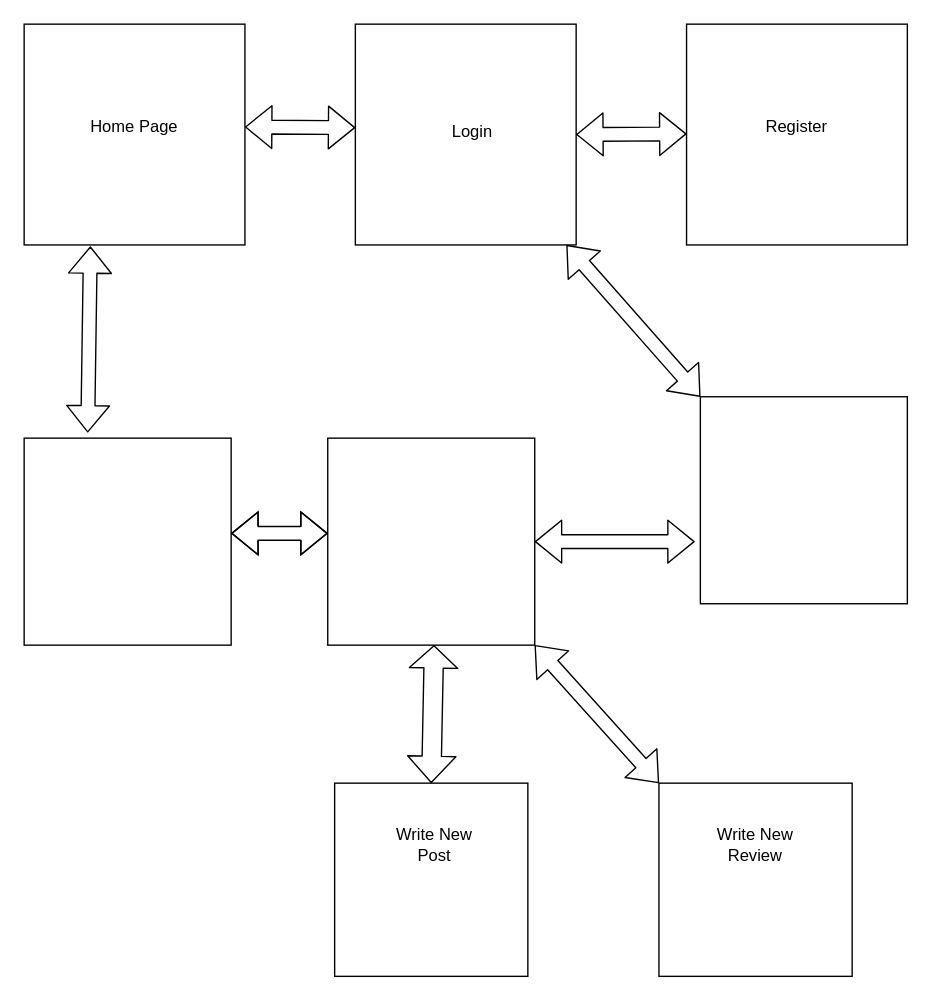
Image size: 932x1001. Some labels were removed from this diagram. The centre of each missing label's shape, as x and y in pixels:
"Error Page" goes at (x=127, y=541).
"Live Feed" goes at (x=430, y=541).
"User Profile" goes at (x=803, y=499).
